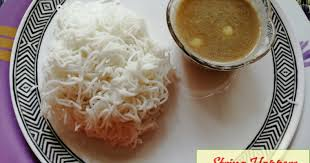idyappa: (40, 2, 173, 150)
